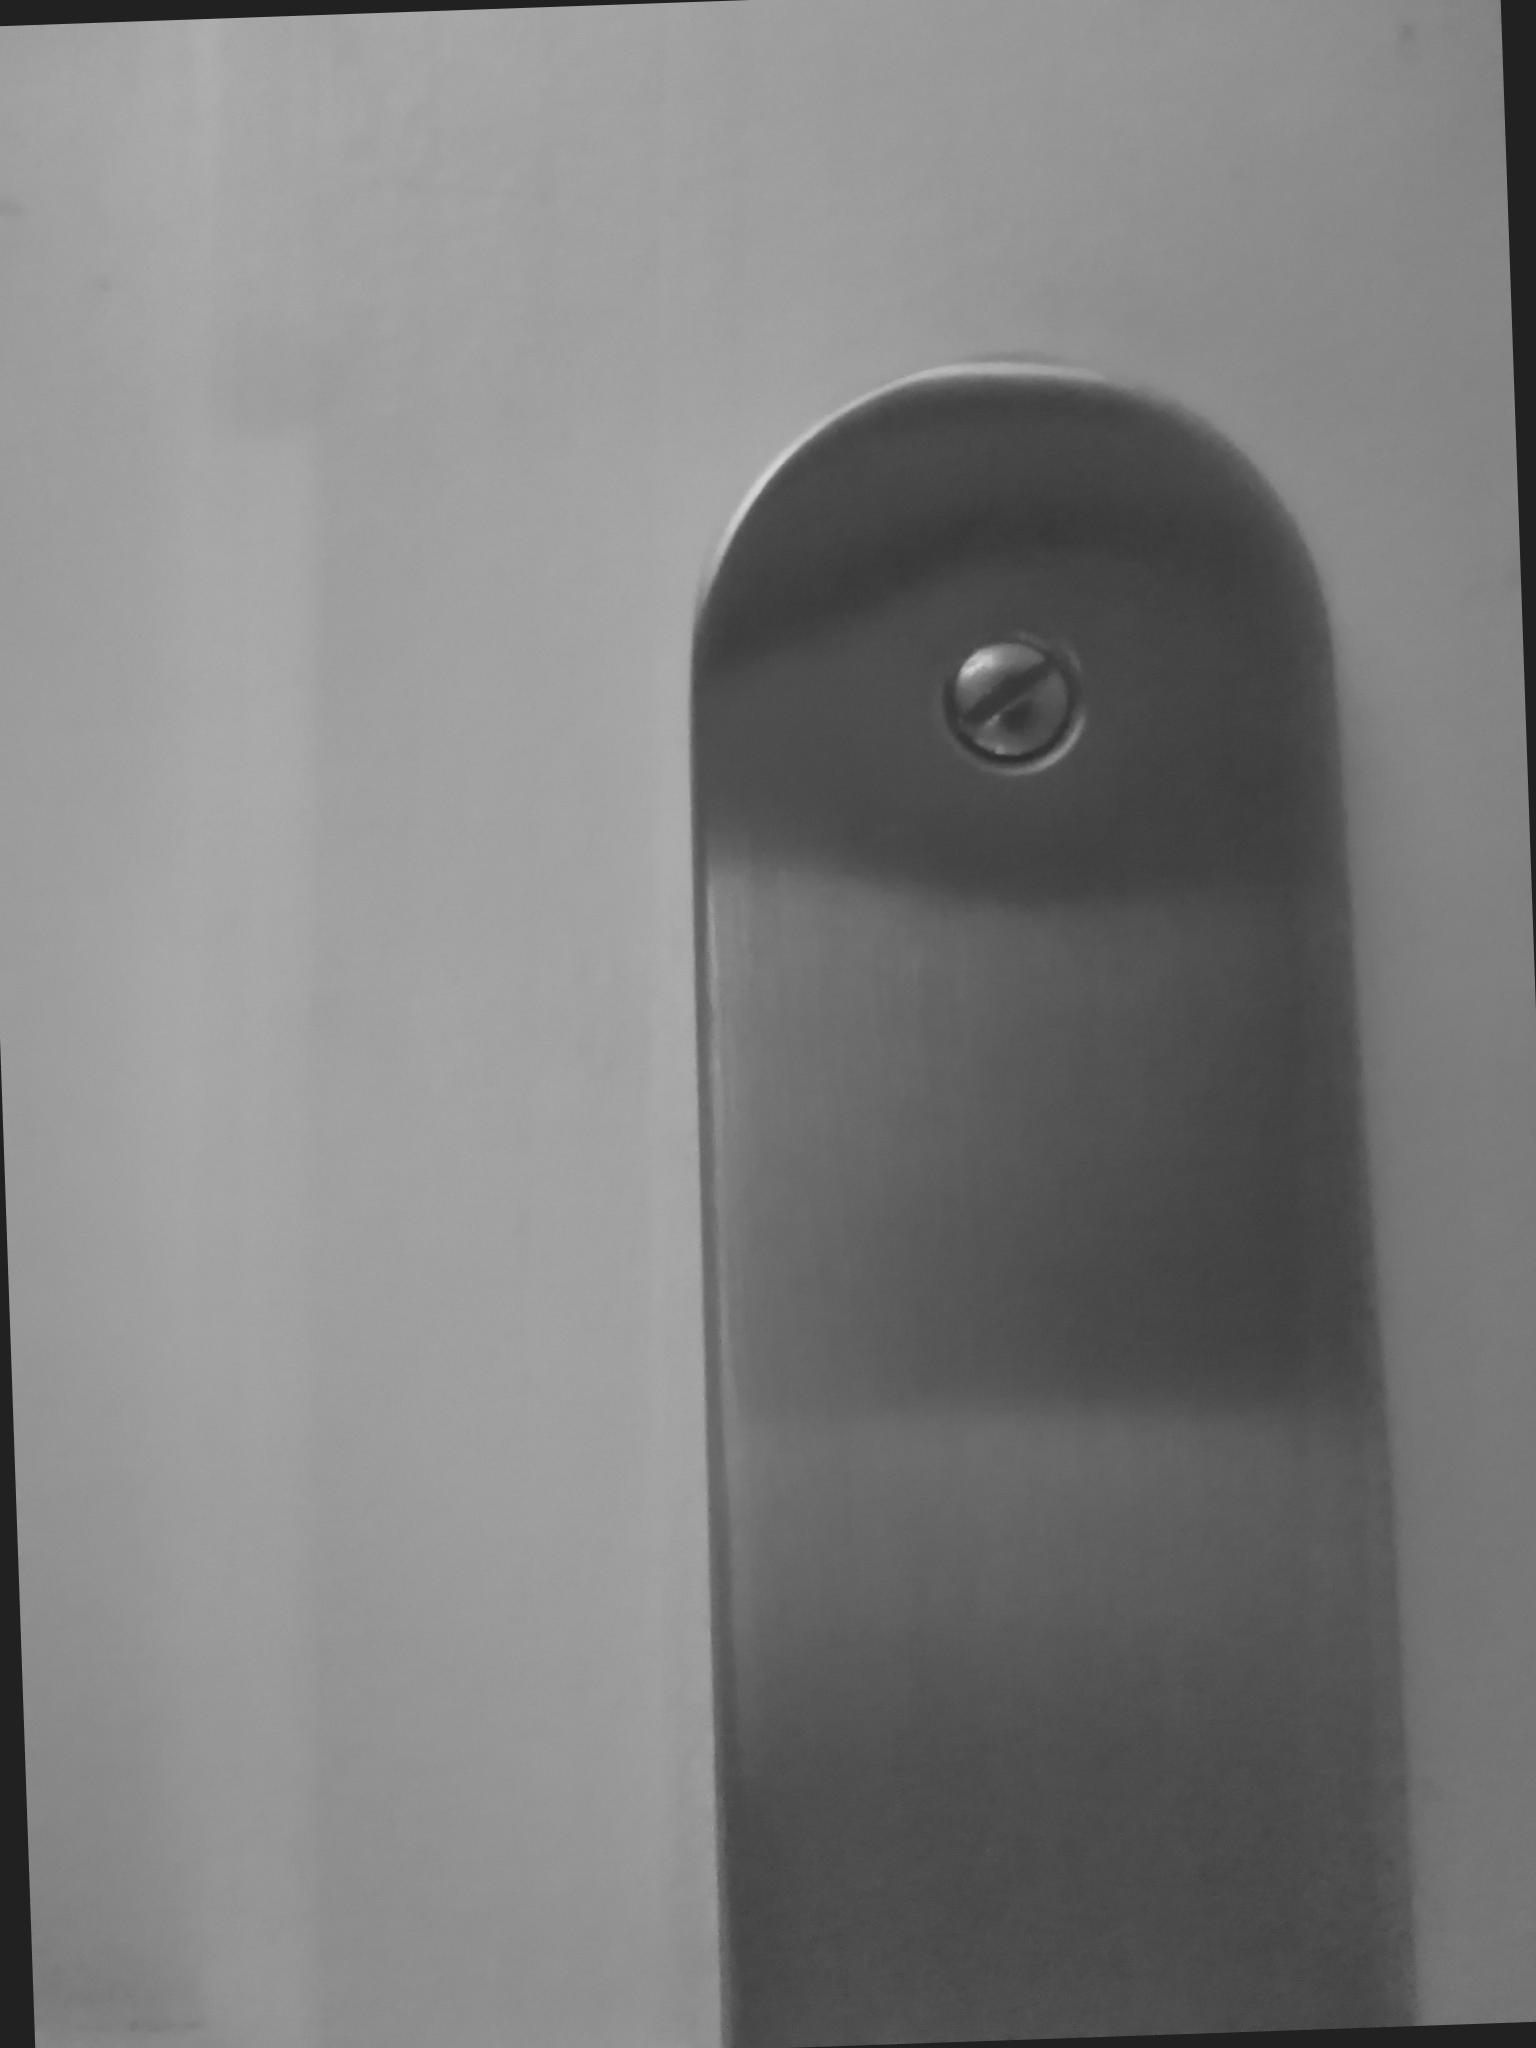slotted: (925, 618, 1102, 779)
